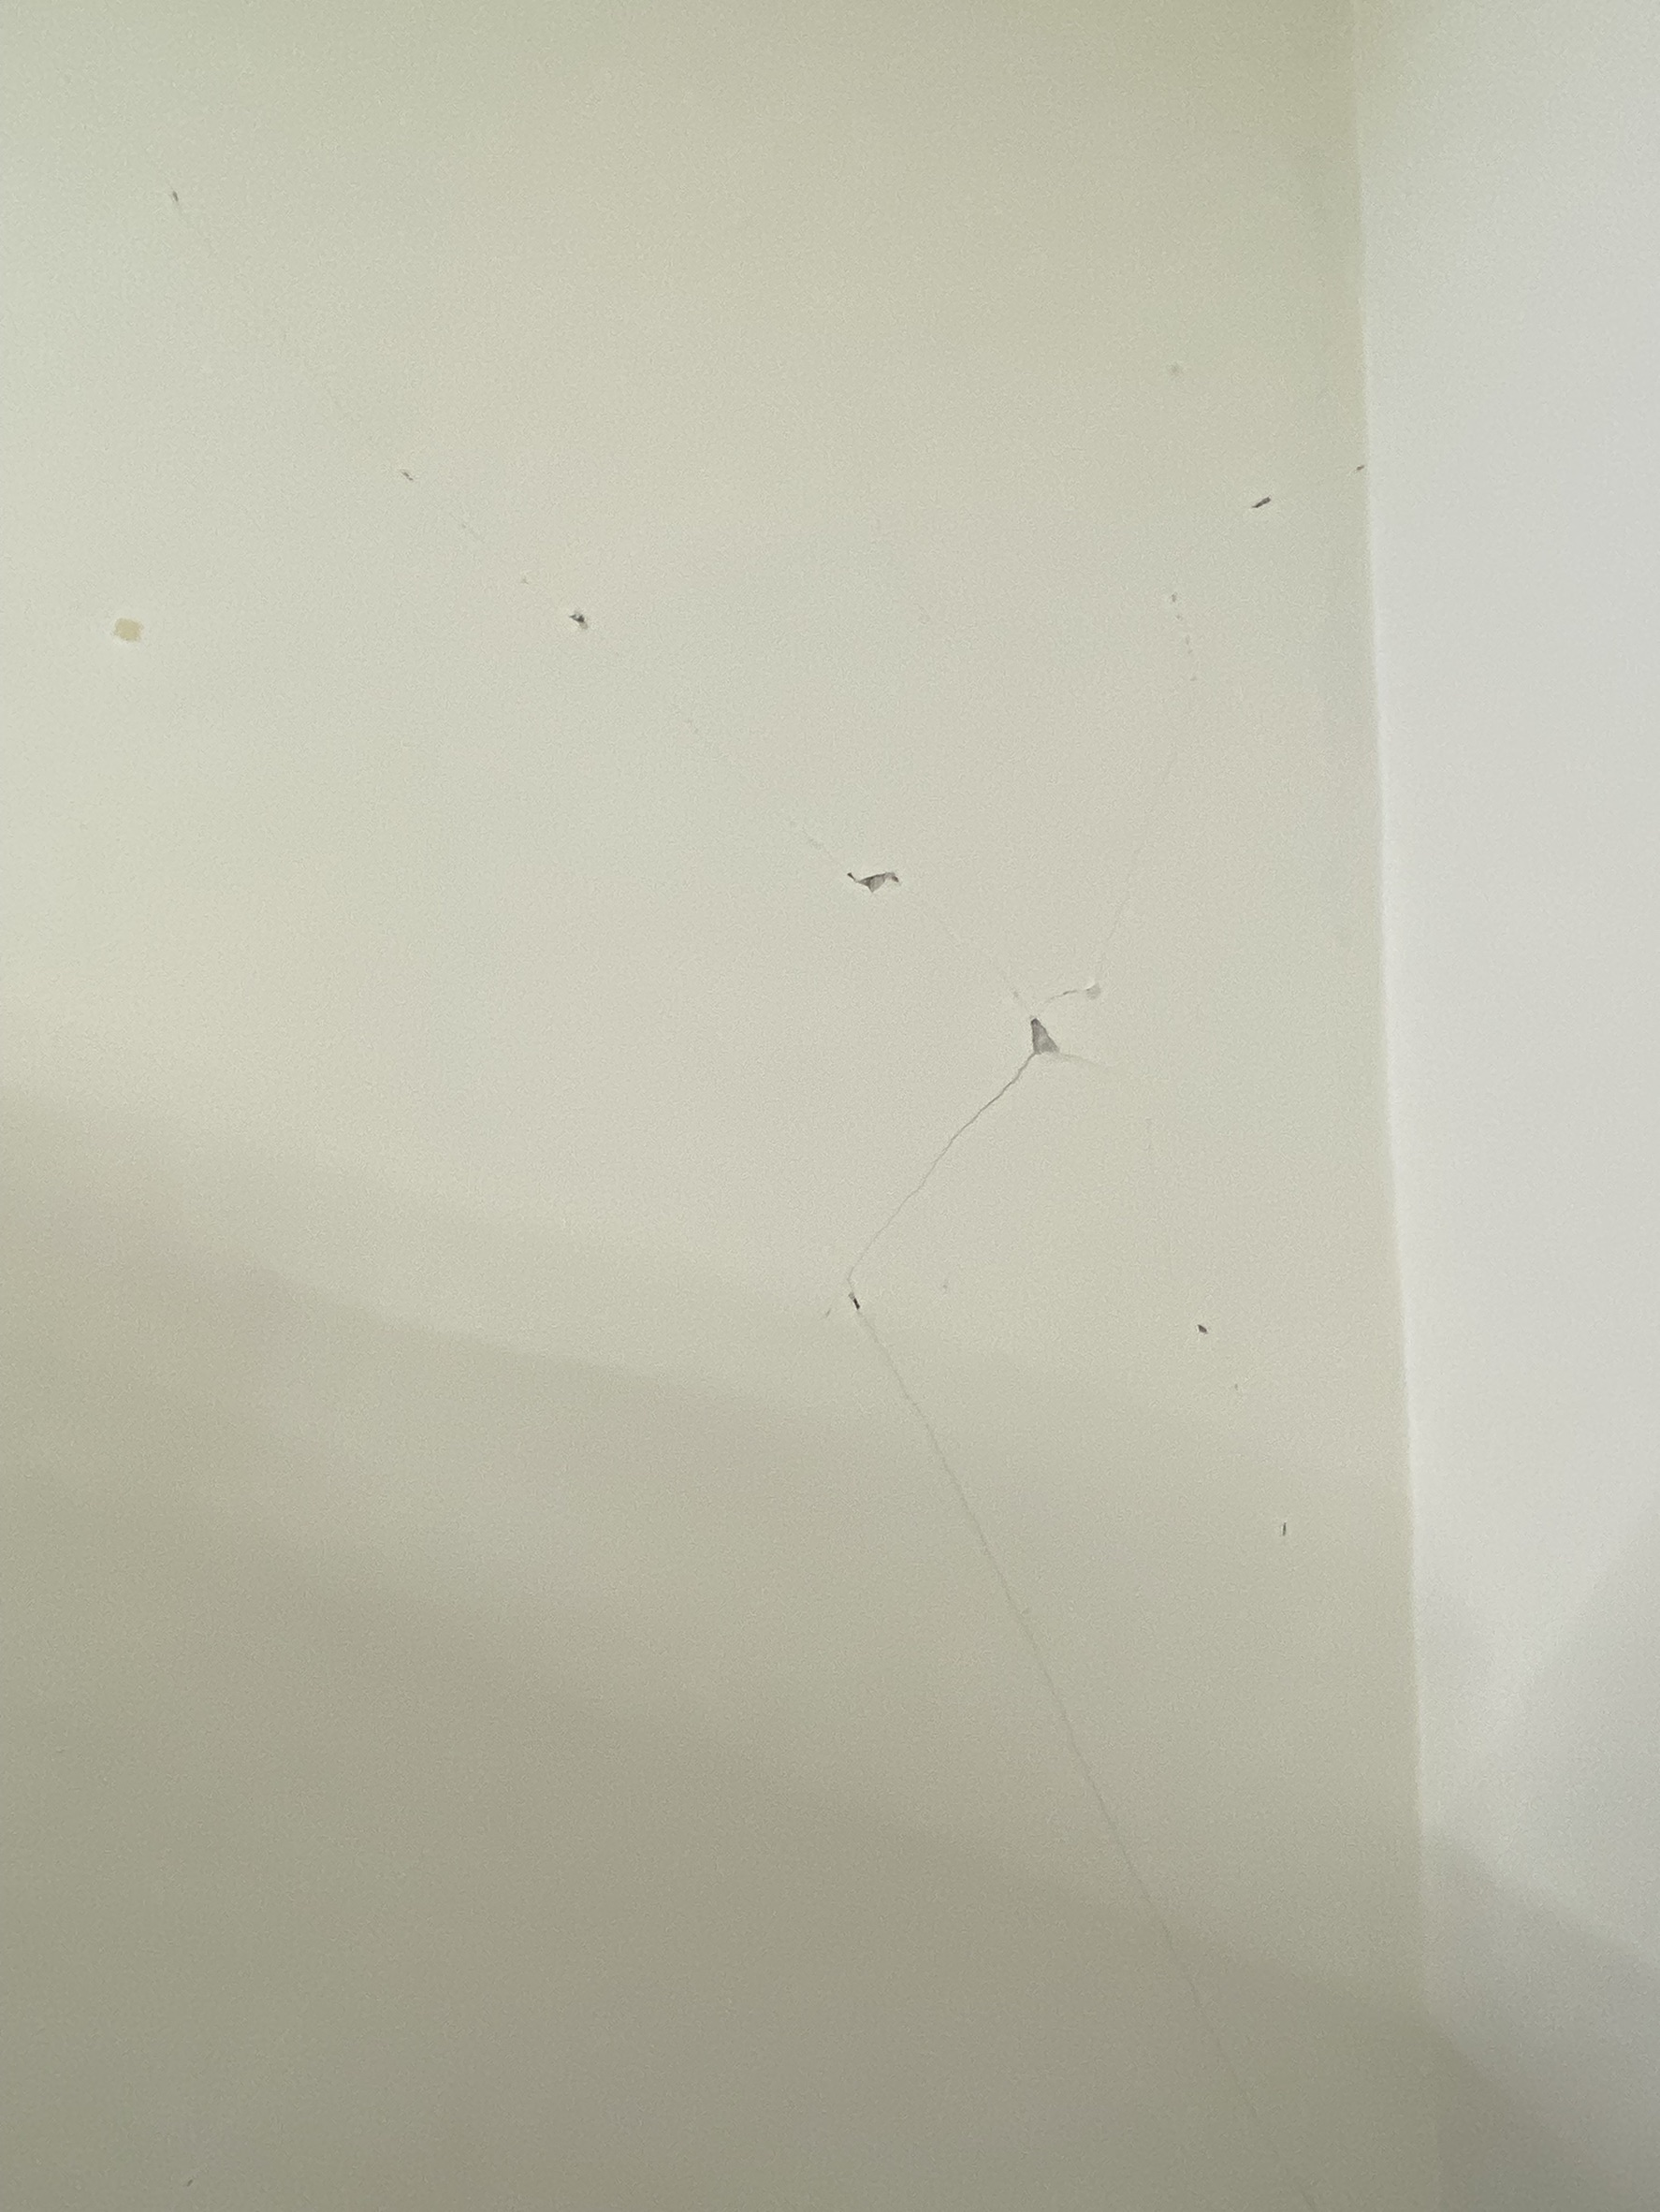Low: (38, 2, 1372, 2212)
